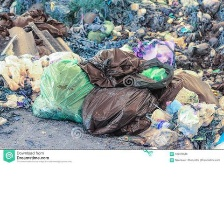plastic_bag: (27, 54, 92, 126), (79, 85, 159, 139), (156, 66, 223, 108), (76, 46, 141, 88), (132, 55, 177, 93)
